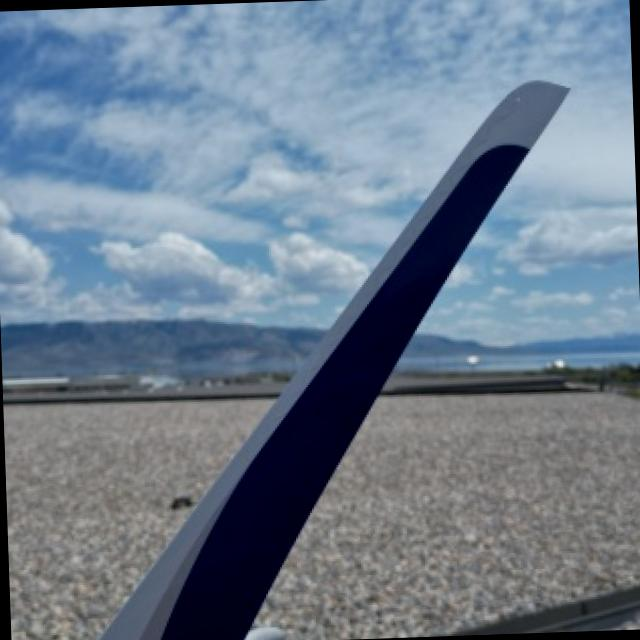healthy: (100, 81, 568, 640)
